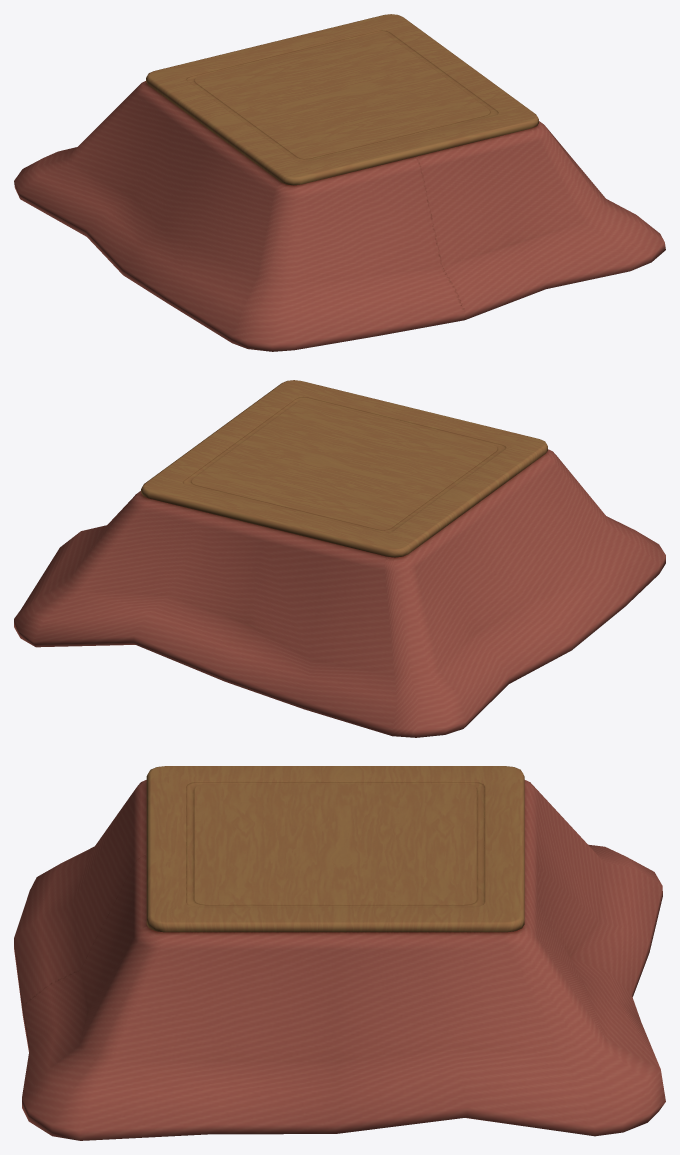
The model's file is kotatu.fbx.
3 renders of one model, top to bottom at view 1: azimuth 30°, elevation 25°; view 2: azimuth 150°, elevation 25°; view 3: azimuth 270°, elevation 25°, orthographic. The views are drawn at different scales.
Visible parts, largest first — view 1: kotatu:pCube1; view 2: kotatu:pCube1; view 3: kotatu:pCube1.
Boxes of the visible parts, x1=… form: kotatu:pCube1: x1=14, y1=14, x2=665, y2=351; kotatu:pCube1: x1=14, y1=380, x2=665, y2=737; kotatu:pCube1: x1=14, y1=766, x2=665, y2=1140.
Size of the model in its own units: 139 by 40.93 by 138.
Materials: 1 (1 with a texture image).
